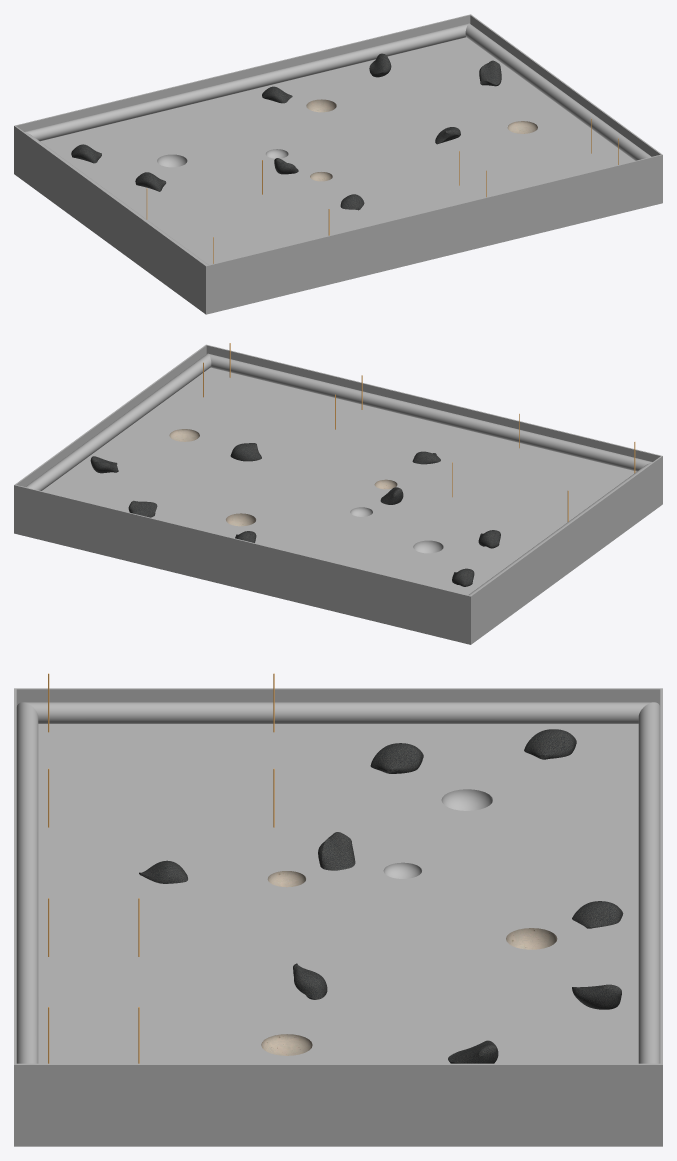
The model's file is field_v1.gltf.
3 views of the same model, one above another, from view 1: azimuth 30°, elevation 25°; view 2: azimuth 150°, elevation 25°; view 3: azimuth 270°, elevation 25° (orthographic). The views are drawn at different scales.
Parts seen in each view (by area): view 1: Lunabotics_Field_2025-1, Rock_Obstacle-7; view 2: Lunabotics_Field_2025-1, Rock_Obstacle-8; view 3: Lunabotics_Field_2025-1, Rock_Obstacle-4, Rock_Obstacle-1, Rock_Obstacle-3, Rock_Obstacle-5, Rock_Obstacle-6, Rock_Obstacle-8, Rock_Obstacle-7, Rock_Obstacle-2.
Boxes of the visible parts, x1,y1,x2,y2 form: Lunabotics_Field_2025-1: (14,14,662,314); Rock_Obstacle-7: (479,60,501,86); Lunabotics_Field_2025-1: (14,343,662,644); Rock_Obstacle-8: (230,443,261,461); Lunabotics_Field_2025-1: (14,673,662,1146); Rock_Obstacle-4: (370,743,423,773); Rock_Obstacle-1: (524,729,576,759); Rock_Obstacle-3: (318,832,355,870); Rock_Obstacle-5: (572,901,623,928); Rock_Obstacle-6: (572,984,621,1009); Rock_Obstacle-8: (293,963,327,999); Rock_Obstacle-7: (448,1040,498,1063); Rock_Obstacle-2: (139,860,187,883).
Size of the model in its own units: 6.92 by 0.95 by 5.04.
6 materials, 4 textured.
